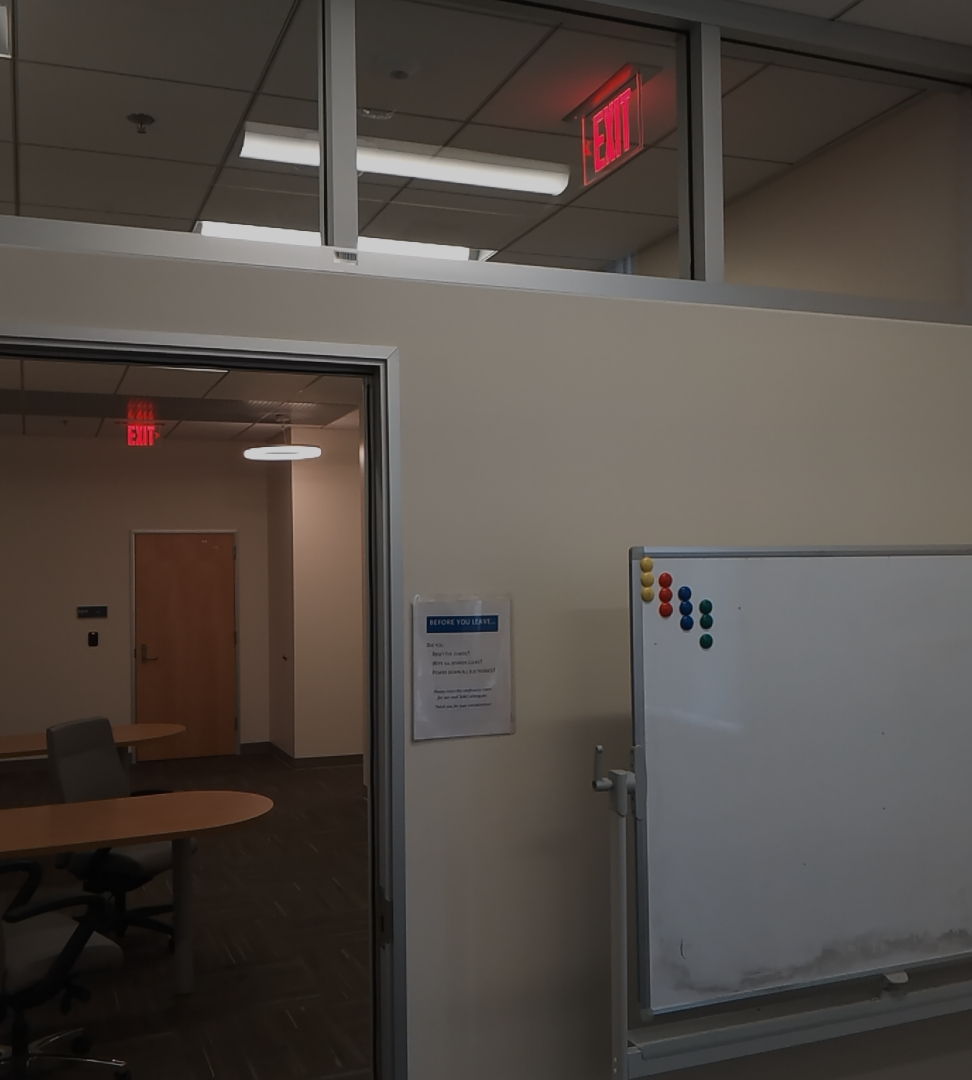emergency_exit: (572, 62, 647, 189), (123, 396, 160, 449)
